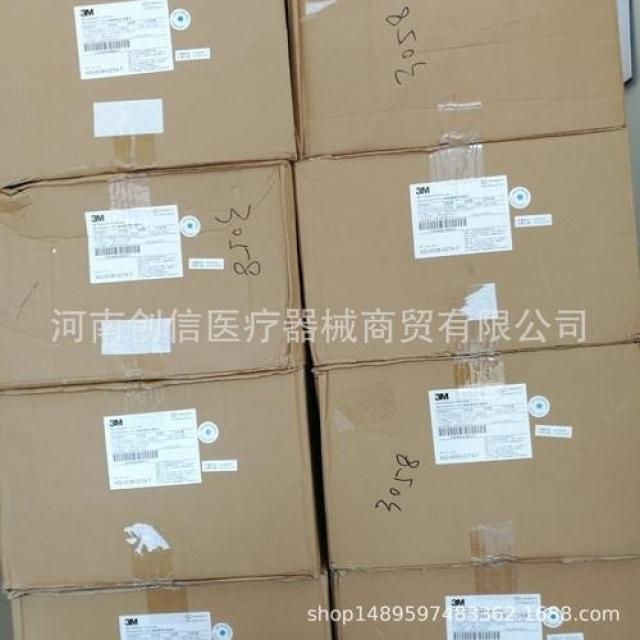Carton: (288, 132, 637, 365), (317, 346, 639, 564), (3, 374, 320, 589), (0, 165, 301, 387), (289, 0, 621, 152)
